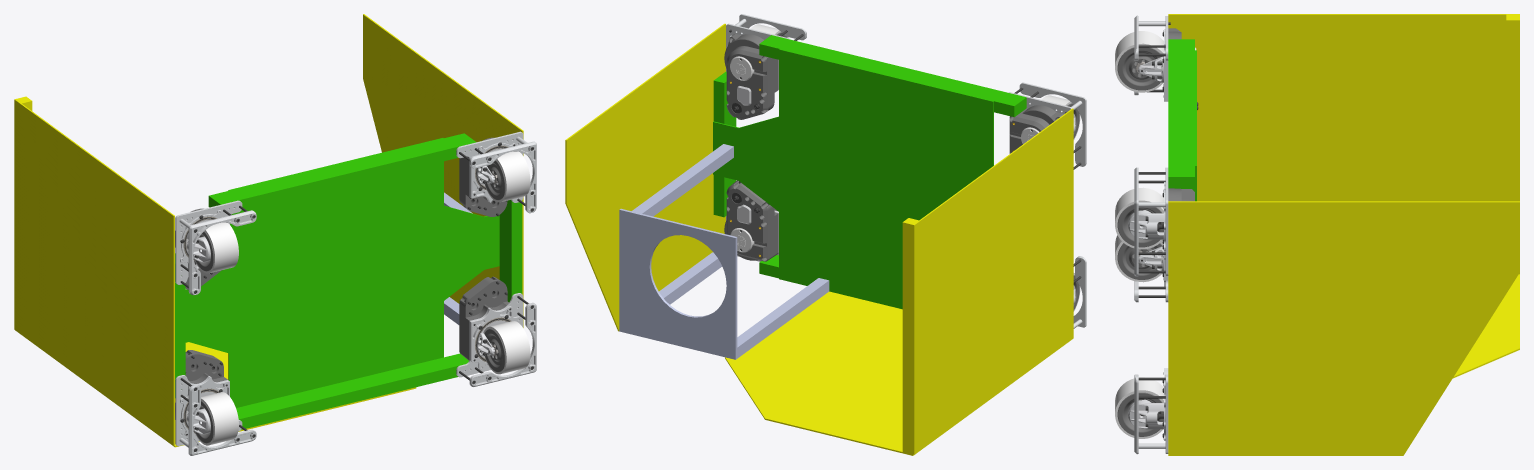
3 views of the same model, side by side, from view 1: azimuth 30°, elevation 25°; view 2: azimuth 150°, elevation 25°; view 3: azimuth 270°, elevation 25° (orthographic). The views are drawn at different scales.
Parts seen in each view (by area): view 1: NAUO2, NAUO9, NAUO4, NAUO8, NAUO5, NAUO7, NAUO6, NAUO3; view 2: NAUO2, NAUO9, NAUO3, NAUO4, NAUO7, NAUO6, NAUO8, NAUO5; view 3: NAUO2, NAUO7, NAUO4, NAUO6, NAUO8, NAUO5.
Part boxes in pixels (box(x1,y1,x2,y2)): NAUO2: box(14, 14, 523, 447); NAUO9: box(185, 138, 499, 407); NAUO4: box(175, 133, 522, 429); NAUO8: box(456, 276, 536, 386); NAUO5: box(175, 350, 256, 455); NAUO7: box(456, 131, 536, 216); NAUO6: box(175, 200, 256, 295); NAUO3: box(444, 192, 472, 324); NAUO2: box(565, 23, 1073, 455); NAUO9: box(713, 49, 993, 309); NAUO3: box(619, 144, 829, 359); NAUO4: box(713, 35, 1026, 278); NAUO7: box(724, 14, 806, 119); NAUO6: box(1009, 82, 1086, 169); NAUO8: box(724, 180, 778, 261); NAUO5: box(1073, 256, 1086, 328); NAUO2: box(1168, 14, 1519, 455); NAUO7: box(1115, 167, 1194, 276); NAUO4: box(1168, 39, 1194, 191); NAUO6: box(1115, 15, 1198, 109); NAUO8: box(1115, 368, 1168, 454); NAUO5: box(1115, 235, 1168, 302).
Bounding box in the file's own units: 0.8382 × 0.5302 × 0.7619.
